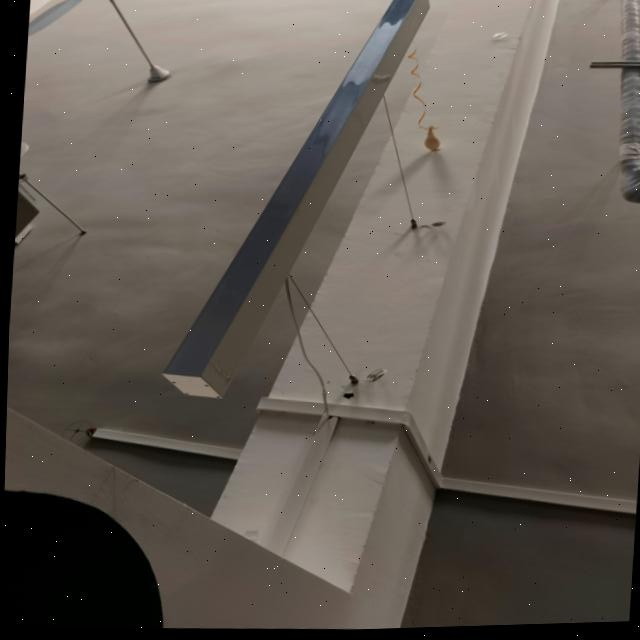fluorescent tube: (151, 0, 435, 413)
